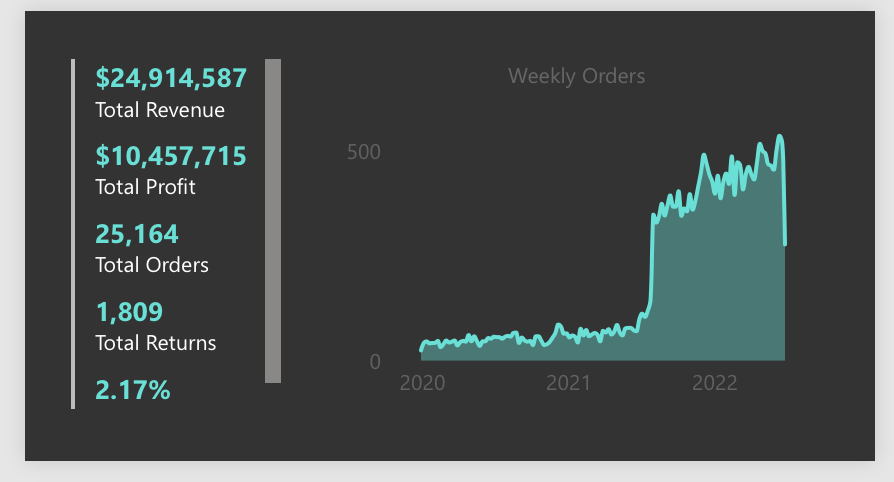

The page's visual inventory and layout, read from the dashboard file:
{"tool":"powerbi","page":{"name":"Category Tooltip","canvas":[425,225],"ordinal":4},"visuals":[{"type":"multiRowCard","fields":{"Values":["Measure Table.Total Revenue","Measure Table.Total Profit","Measure Table.Total Orders","Measure Table.Total Returns","Measure Table.Return Rate"]},"box":[7,10,137,205],"z":0},{"type":"areaChart","title":"Weekly Orders","fields":{"Category":["Calendar Lookup.Start of Week"],"Y":["Measure Table.Total Orders"]},"box":[144,10,264,205],"z":1000}]}

Visuals, with their boxes in screenshot pixels (x1, y1, x2, y2), scaled from the page's 425x225 canvas onto the 894x482 screenshot:
multiRowCard - Measure Table.Total Revenue x Measure Table.Total Profit: (15,21,303,461)
"Weekly Orders" areaChart: (303,21,858,461)
